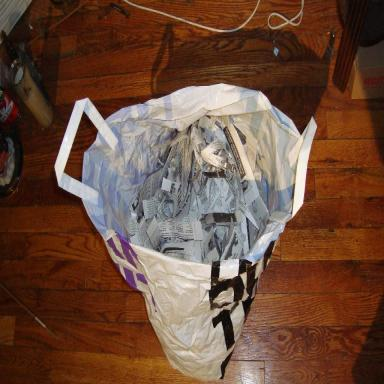plasticbag: (54, 80, 318, 380)
